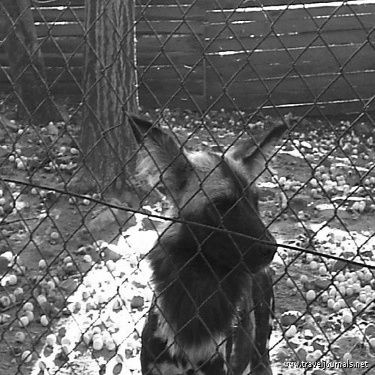dog: (100, 106, 316, 371)
